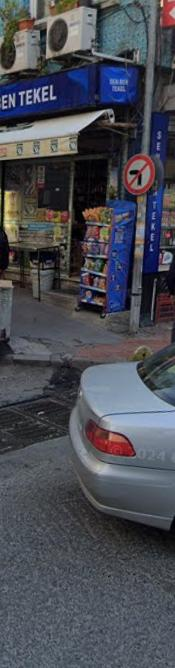leftturnsareforbidden: (124, 154, 154, 196)
